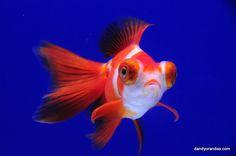goldfish: (40, 28, 191, 134)
